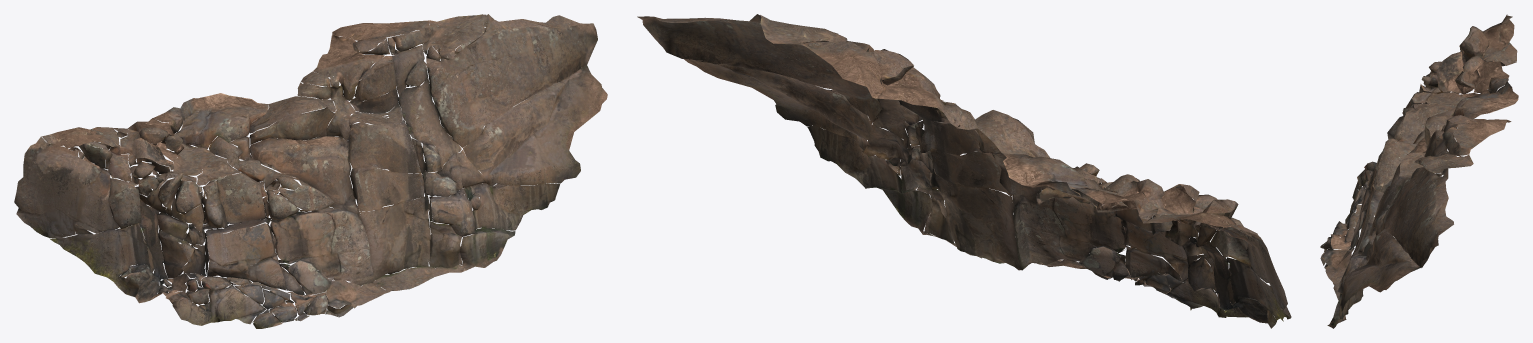
The model's file is namaqualand_cliff_02.glb.
The picture shows the model from 3 angles, left to right: view 1: azimuth 30°, elevation 25°; view 2: azimuth 150°, elevation 25°; view 3: azimuth 270°, elevation 25°; orthographic projection. The views are drawn at different scales.
Parts seen in each view (by area): view 1: drone_rock_02_LOD0; view 2: drone_rock_02_LOD0; view 3: drone_rock_02_LOD0.
Boxes of the visible parts, x1=… form: drone_rock_02_LOD0: x1=14, y1=14, x2=607, y2=328; drone_rock_02_LOD0: x1=637, y1=14, x2=1291, y2=328; drone_rock_02_LOD0: x1=1320, y1=14, x2=1518, y2=328.
Size of the model in its own units: 2.79 by 1 by 0.9031.
1 material, 1 textured.
